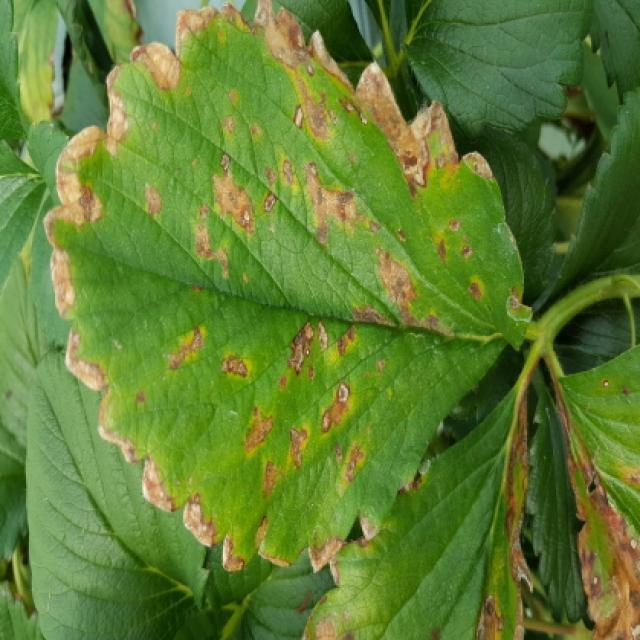Angular Leafspot: (42, 0, 536, 575), (302, 359, 535, 638), (547, 345, 638, 638)
